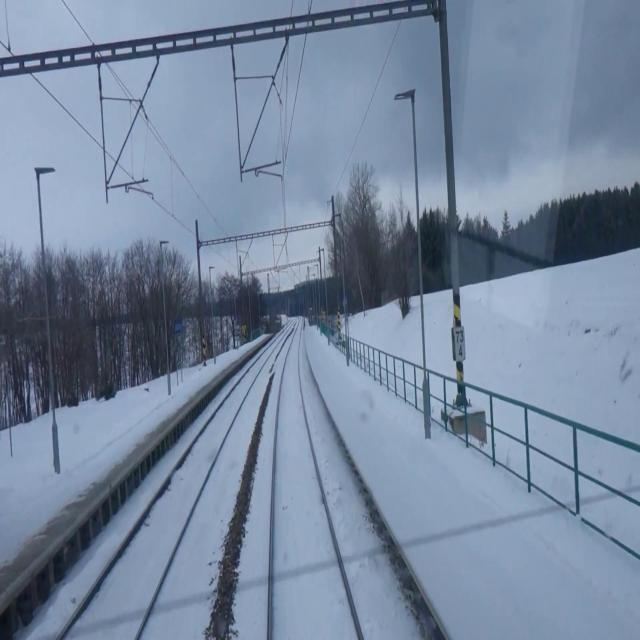rail-track: (62, 340, 277, 639), (273, 320, 358, 639)
